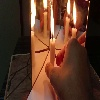fire: (49, 5, 55, 41)
